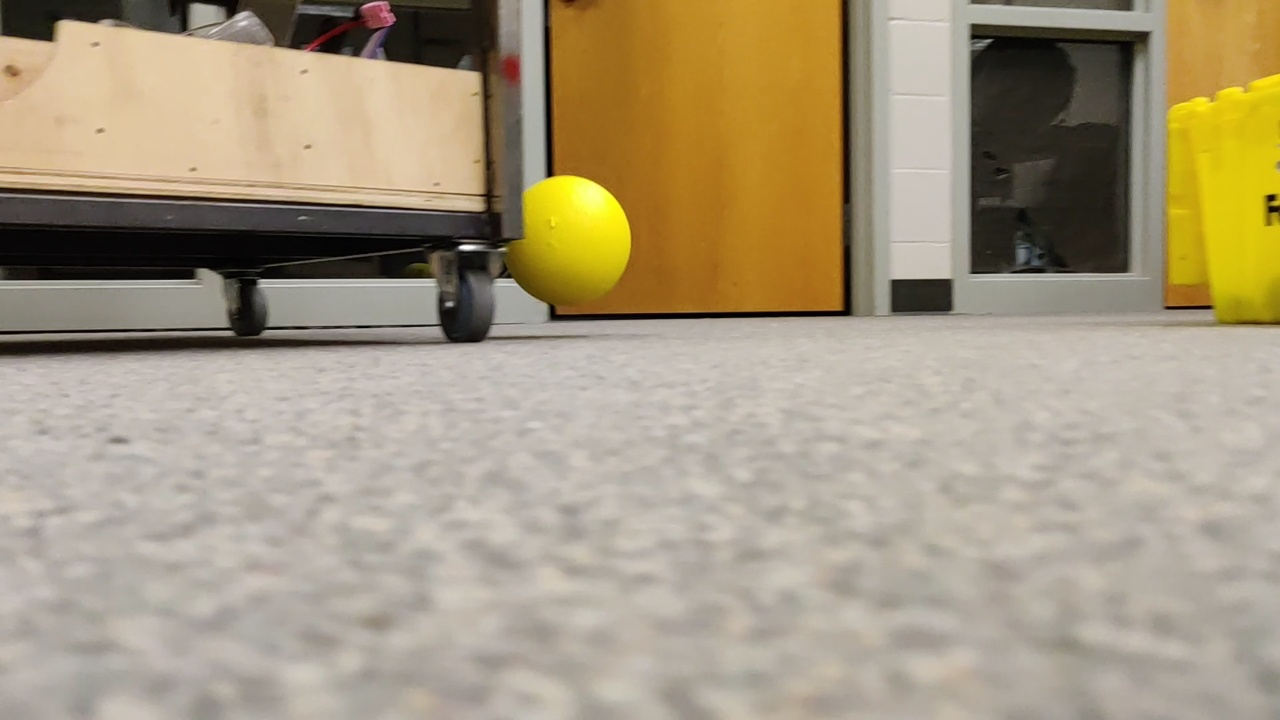Ball: (503, 170, 635, 309)
